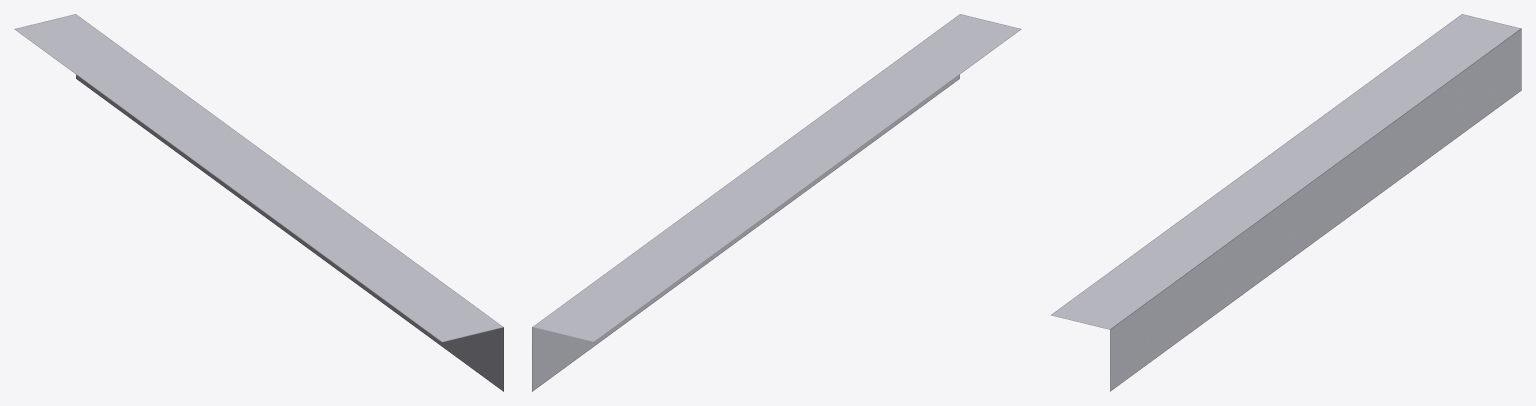
Rendered from Roof_Bar_Hozi_01_LP.FBX.
3 renders of one model, left to right at view 1: azimuth 30°, elevation 25°; view 2: azimuth 150°, elevation 25°; view 3: azimuth 330°, elevation 25°, orthographic. The views are drawn at different scales.
Visible parts, largest first — view 1: Roof_Bar_Hozi_01_LP; view 2: Roof_Bar_Hozi_01_LP; view 3: Roof_Bar_Hozi_01_LP.
Boxes of the visible parts, left/top/right/bottom form: Roof_Bar_Hozi_01_LP: left=14, top=14, right=503, bottom=391; Roof_Bar_Hozi_01_LP: left=532, top=14, right=1021, bottom=391; Roof_Bar_Hozi_01_LP: left=1051, top=14, right=1521, bottom=391.
Bounding box in the file's own units: 1 × 1 × 12.
1 material, 1 textured.
